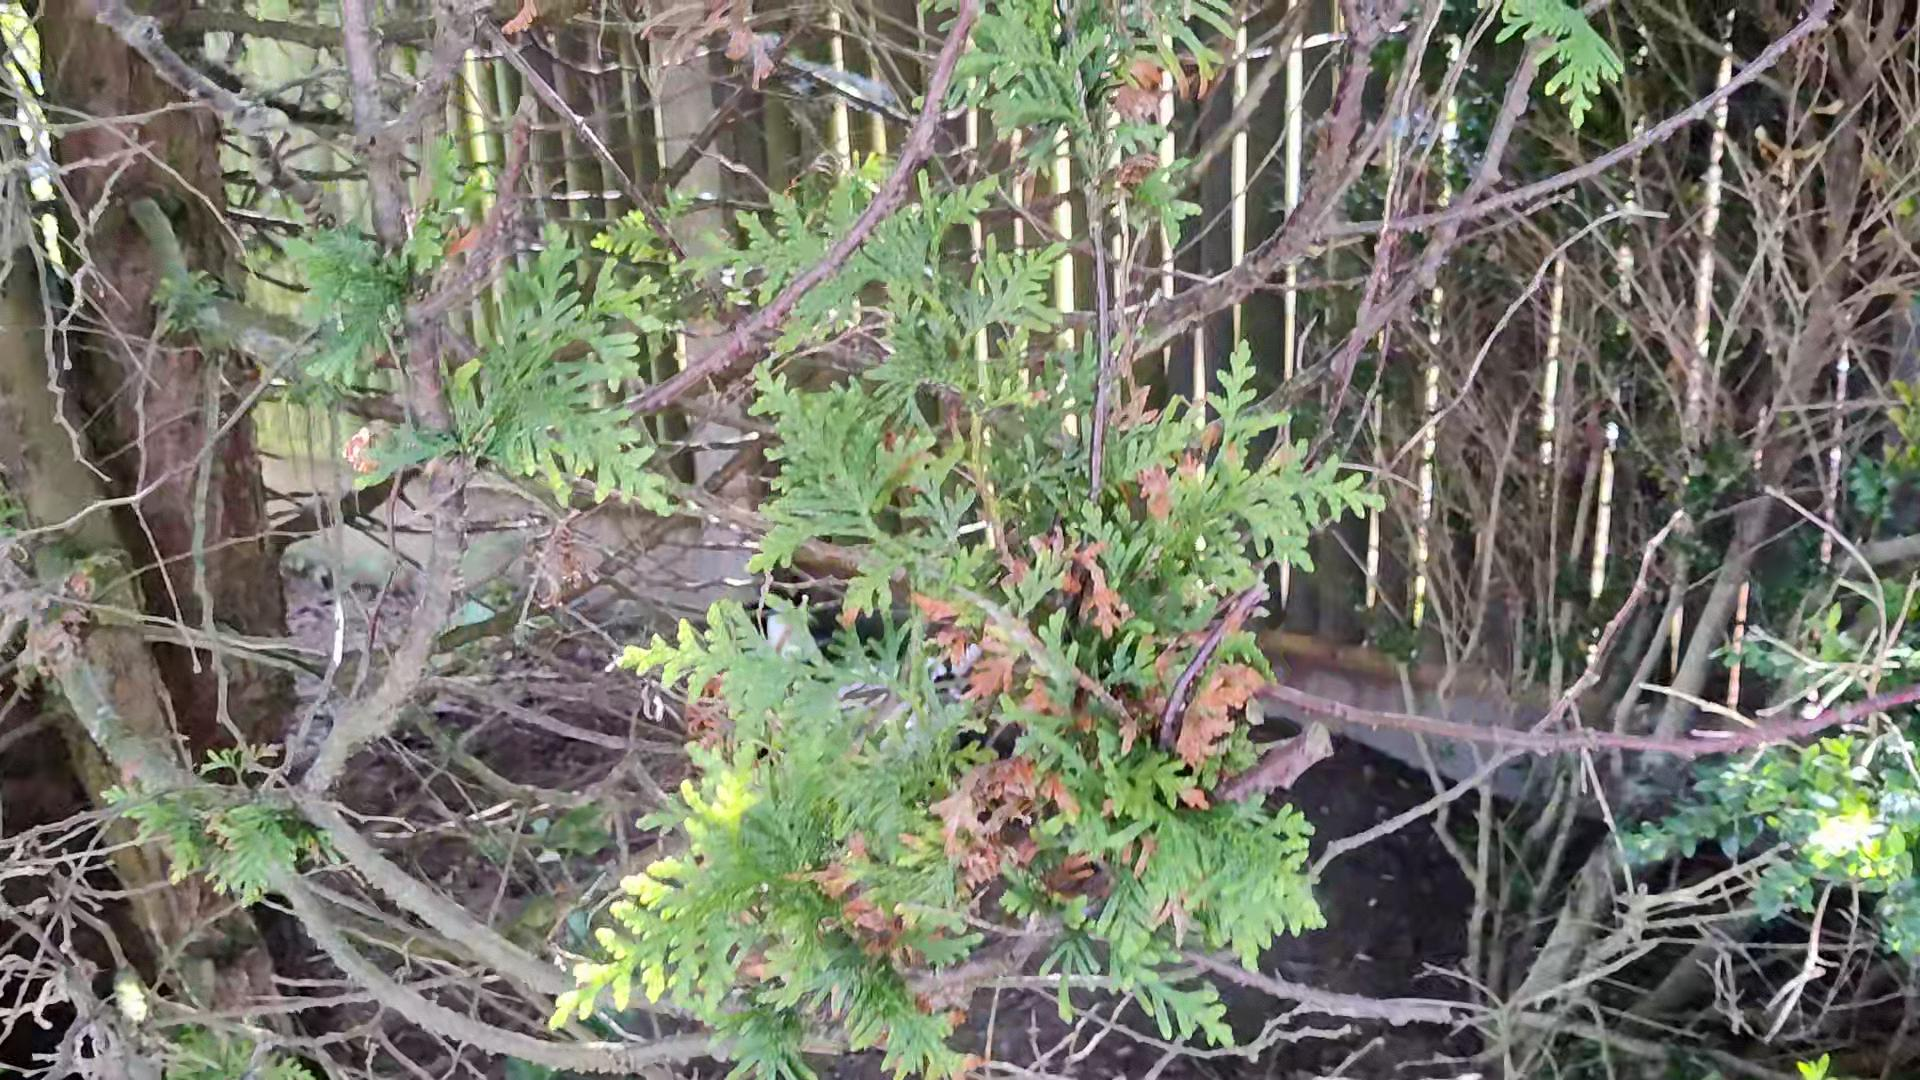Dog: (709, 553, 971, 756)
